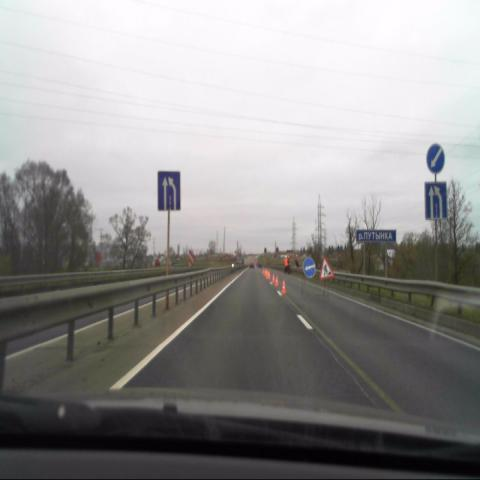1_25: (320, 255, 333, 280)
4_1_2_2: (304, 257, 316, 279)
4_2_2: (426, 144, 445, 174)
